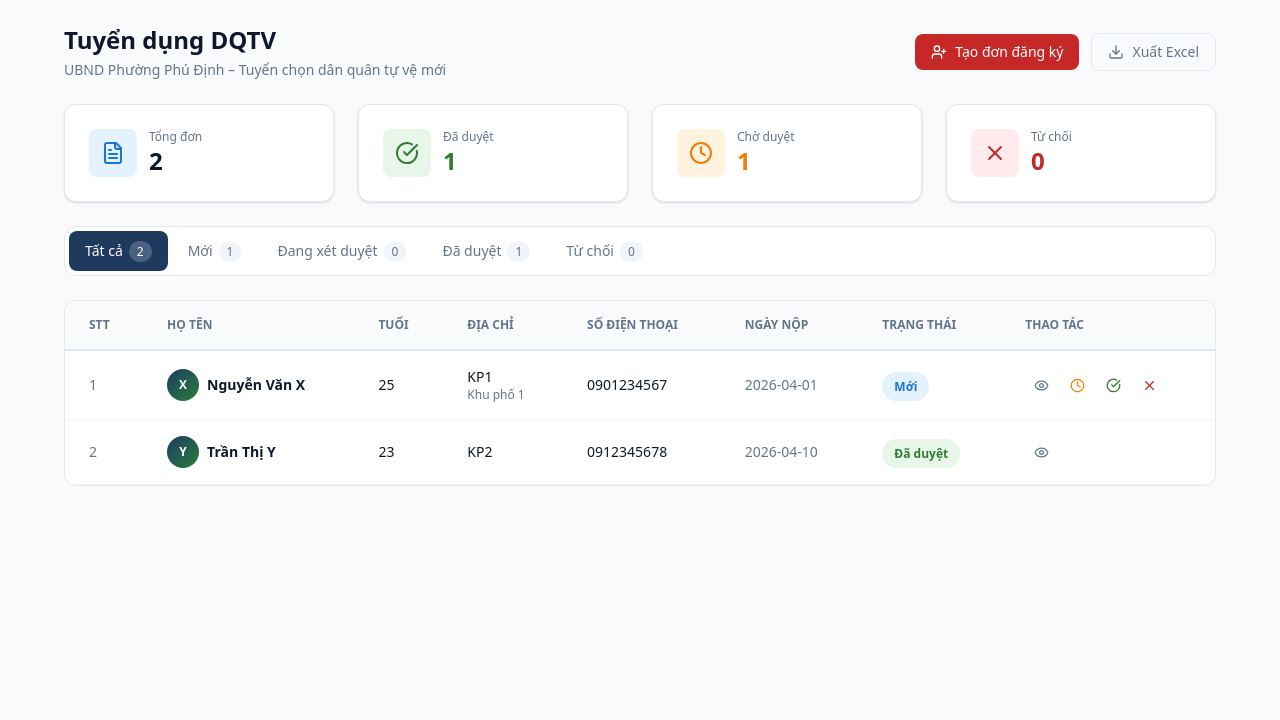
Test case: RecruitmentPage › detail modal › modal closes when clicking X button
Check: the row with test id "application-row-a1" is shown, box [65,350,1215,420]
Click the button titled "Xem chi tiết" in the row of "Nguyễn Văn X".
click(1041, 385)  # box [1025,369,1057,401]
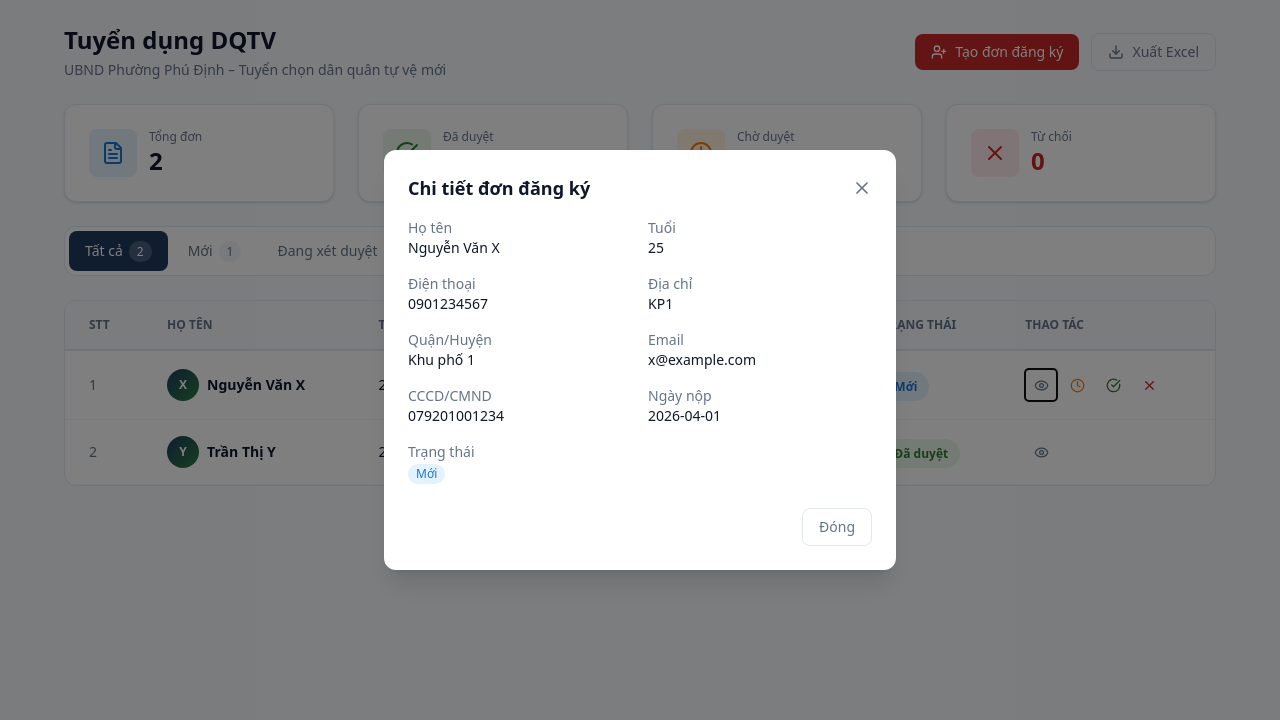
Check: the heading "Chi tiết đơn đăng ký" is shown, box [408,174,590,202]
Click the button "Đóng".
click(837, 527)  # box [802,508,872,546]
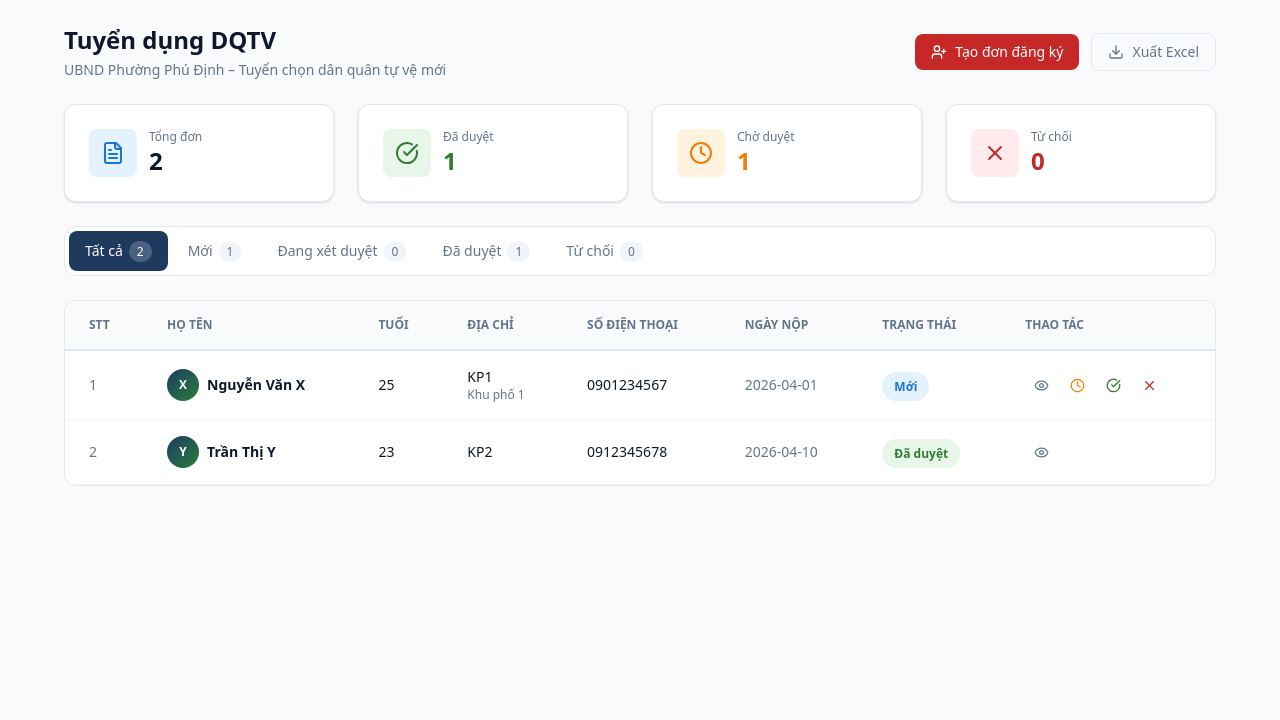
Check: the heading "Chi tiết đơn đăng ký" is gone
